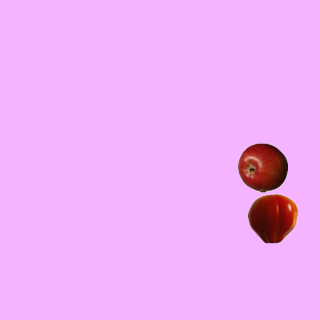Apple Braeburn: (237, 142, 287, 192)
Tomato 1: (247, 193, 297, 243)
